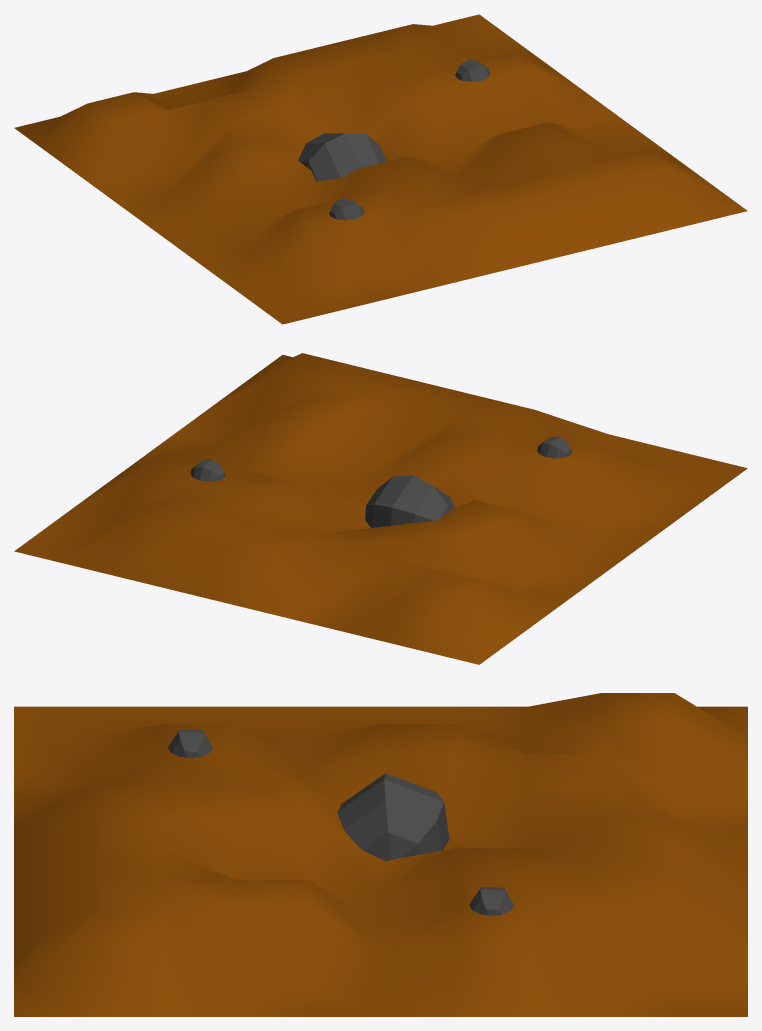
File: FIL_ZenGarden_Ground_01.fbx
3 renders of one model, top to bottom at view 1: azimuth 30°, elevation 25°; view 2: azimuth 150°, elevation 25°; view 3: azimuth 270°, elevation 25°, orthographic. The views are drawn at different scales.
Visible parts, largest first — view 1: pPlane7; view 2: pPlane7; view 3: pPlane7.
Part boxes in pixels (x1,y1,x2,y2): pPlane7: (14, 14, 747, 324); pPlane7: (14, 353, 747, 664); pPlane7: (14, 693, 747, 1016).
Bounding box in the file's own units: 11.37 × 1.39 × 11.37.
